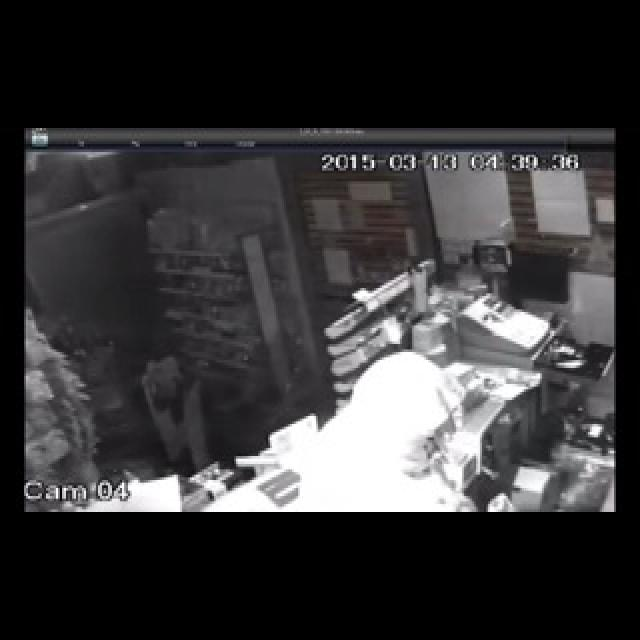thief: (311, 350, 497, 493)
